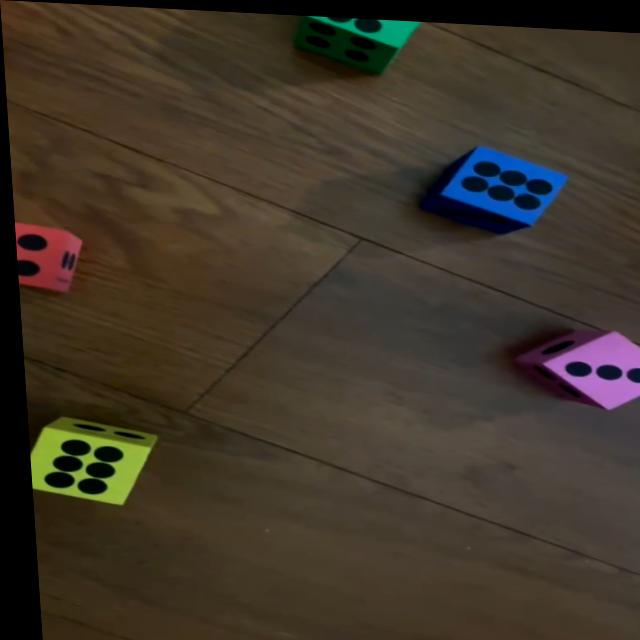cube: (424, 138, 571, 230), (298, 12, 426, 70), (12, 222, 81, 295)
